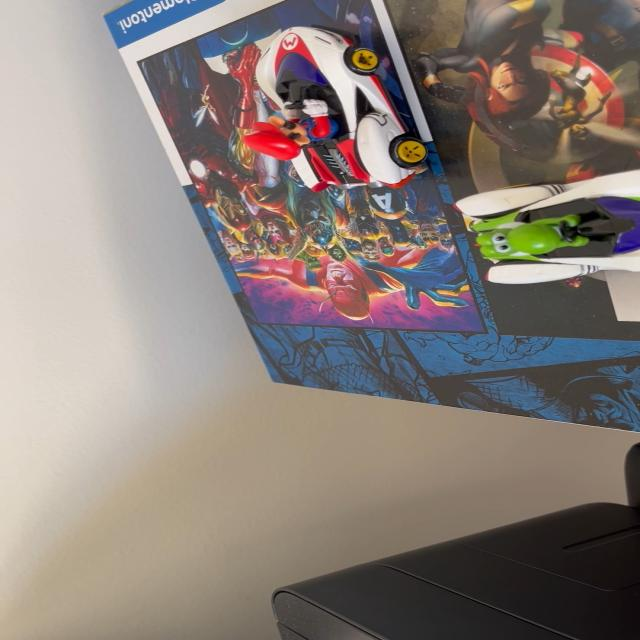mario: (228, 14, 445, 198)
yoshi: (444, 160, 638, 294)
